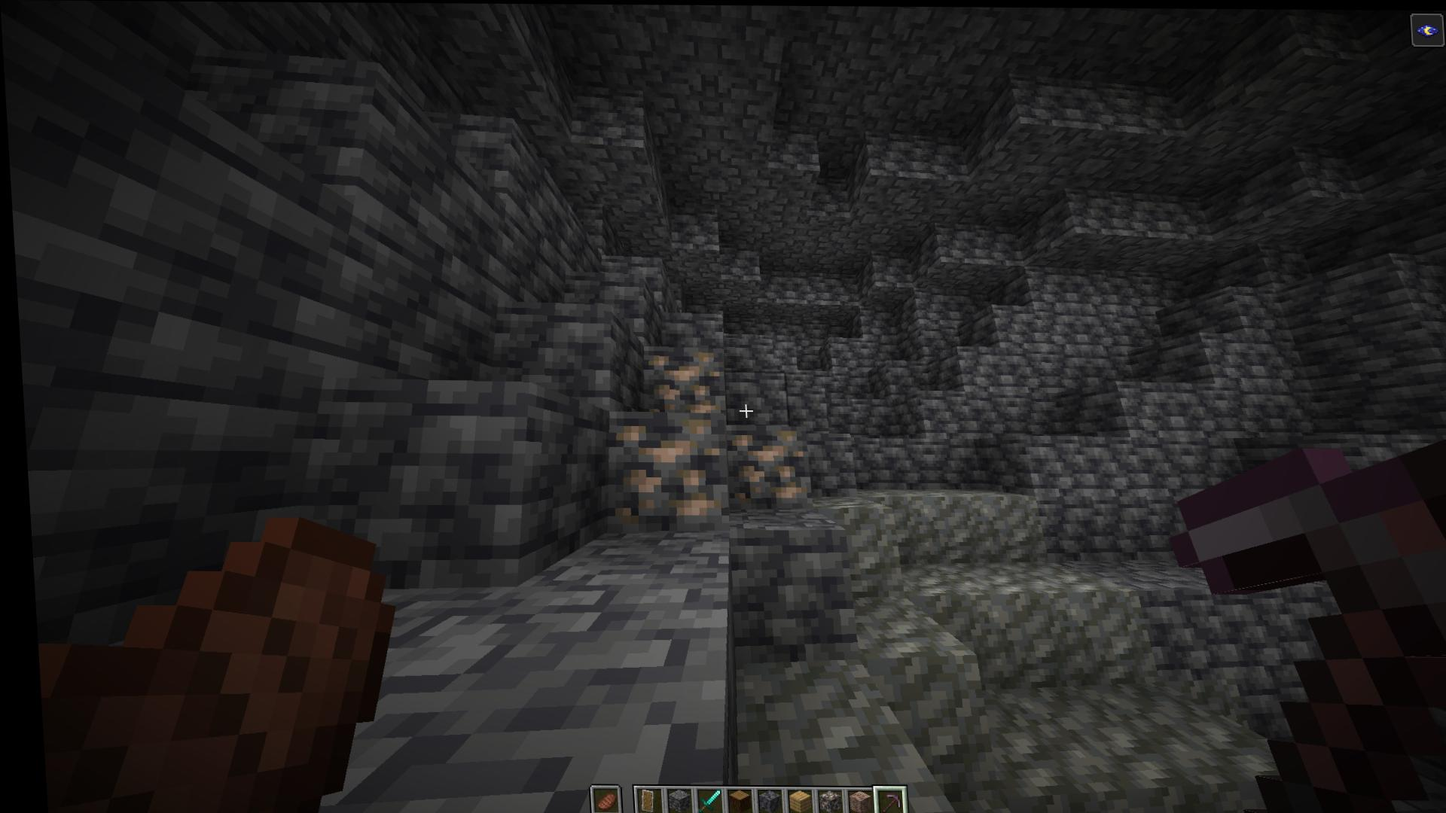iron ore: (602, 410, 721, 529), (719, 423, 803, 508), (637, 347, 720, 413)
